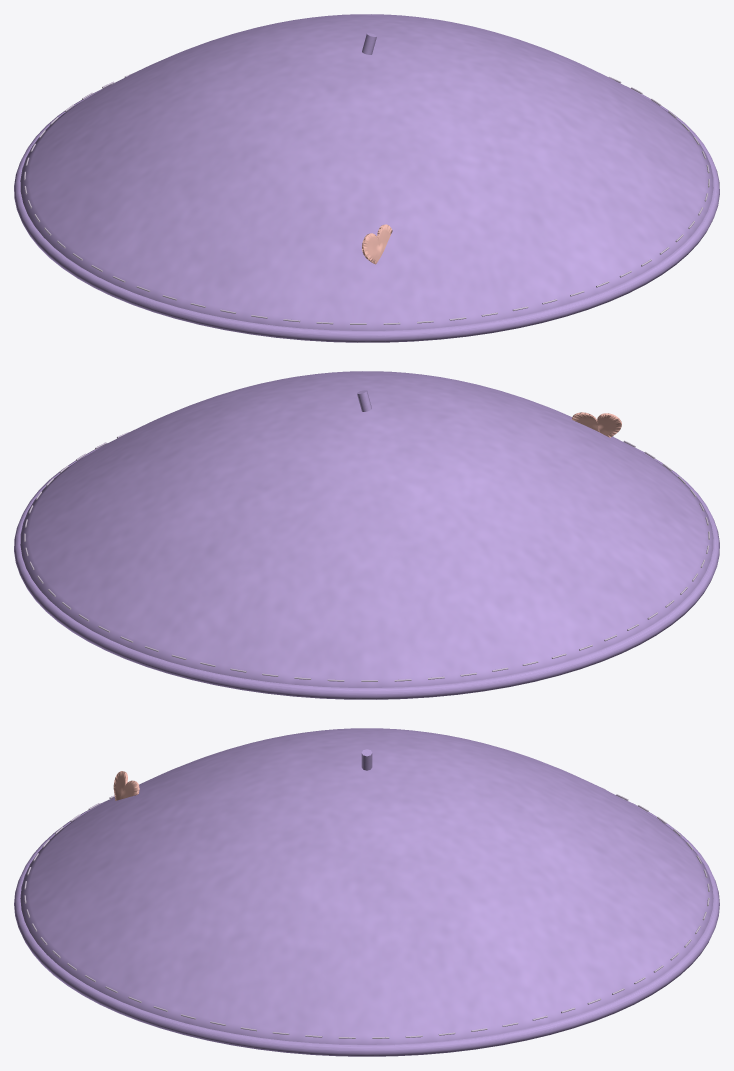
The model's file is experimental_beret_chic_chick_v8.glb.
The picture shows the model from 3 angles, top to bottom: view 1: azimuth 30°, elevation 25°; view 2: azimuth 150°, elevation 25°; view 3: azimuth 270°, elevation 25°; orthographic projection.
Parts seen in each view (by area): view 1: Boina pequeña · fieltro con forro; view 2: Boina pequeña · fieltro con forro; view 3: Boina pequeña · fieltro con forro.
Part boxes in pixels (<box>): Boina pequeña · fieltro con forro: <box>14,14,719,342</box>; Boina pequeña · fieltro con forro: <box>14,371,719,699</box>; Boina pequeña · fieltro con forro: <box>14,728,719,1056</box>.
Size of the model in its own units: 0.4962 by 0.125 by 0.4962.
Materials: 3 (2 with a texture image).
